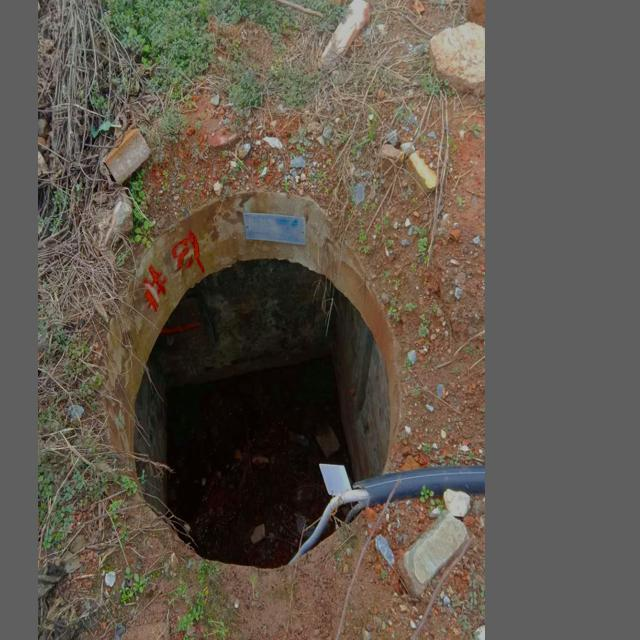lose: (131, 255, 398, 570)
